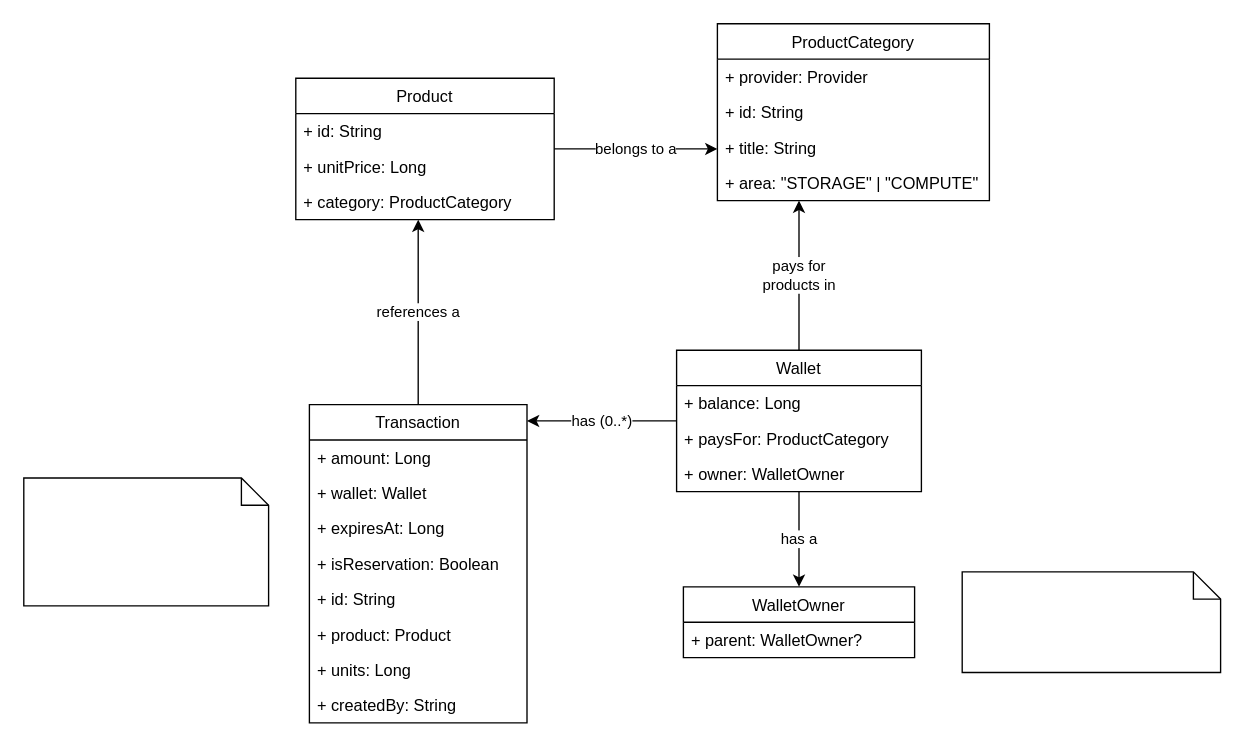
Image size: 1244x751. Some labels were removed from this diagram. The shapes that lost their labels are listed below. From the top down, each one's centre as x and y in pixels, then its label:
(x=145, y=541): Storing the amount instead of computing allows for prices to change.
(x=1091, y=622): WalletOwner is simplified. It is either a user or a project.
